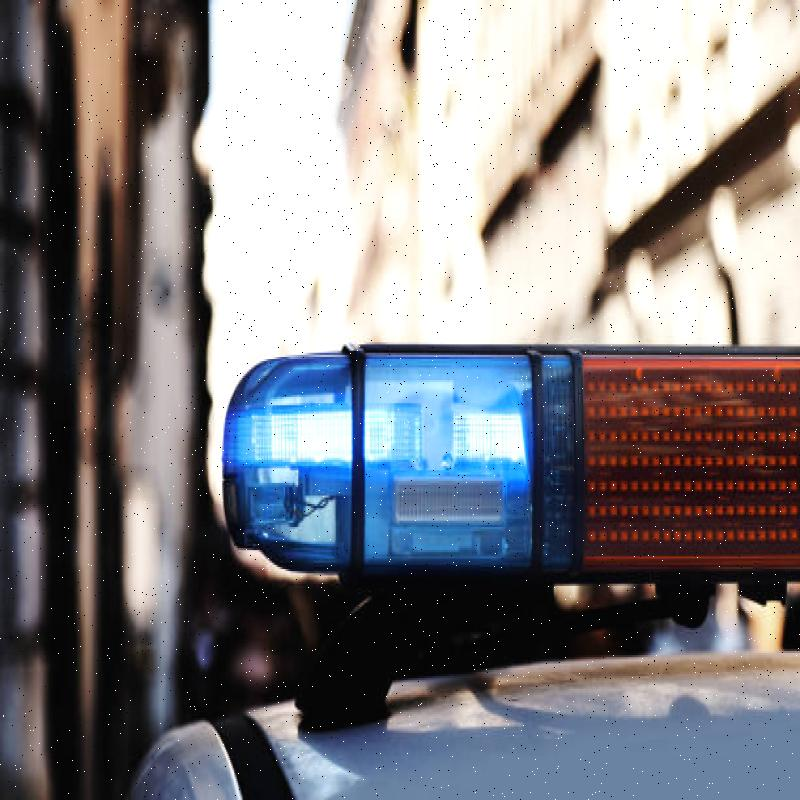AmbulanceSiren: (197, 332, 800, 628)
